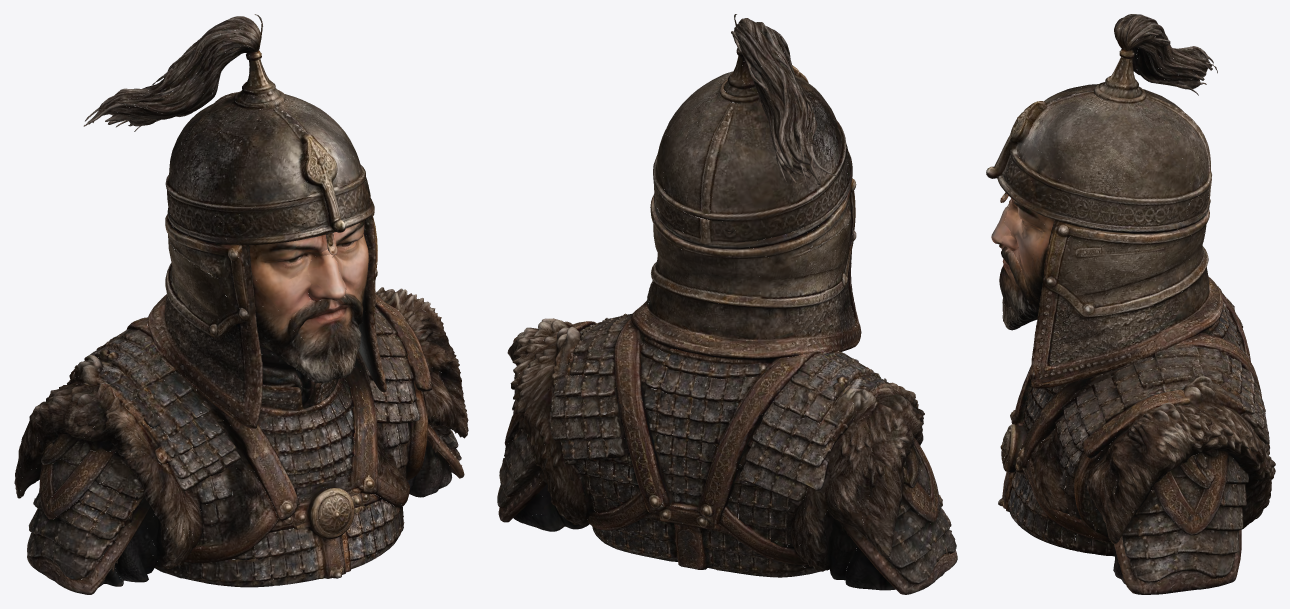
Rendered from bogenbay-batyr.glb.
3 views of the same model, side by side, from view 1: azimuth 30°, elevation 25°; view 2: azimuth 150°, elevation 25°; view 3: azimuth 270°, elevation 25° (orthographic). The views are drawn at different scales.
Visible parts, largest first — view 1: tripo_node_5c90485d-1a61-478c-aff8-95e4ab81e760; view 2: tripo_node_5c90485d-1a61-478c-aff8-95e4ab81e760; view 3: tripo_node_5c90485d-1a61-478c-aff8-95e4ab81e760.
Part boxes in pixels (box(x1,y1,x2,y2)): tripo_node_5c90485d-1a61-478c-aff8-95e4ab81e760: box(14, 14, 468, 594); tripo_node_5c90485d-1a61-478c-aff8-95e4ab81e760: box(497, 14, 957, 594); tripo_node_5c90485d-1a61-478c-aff8-95e4ab81e760: box(986, 14, 1275, 594).
Size of the model in its own units: 0.8391 by 0.9788 by 0.537.
Materials: 1 (1 with a texture image).
